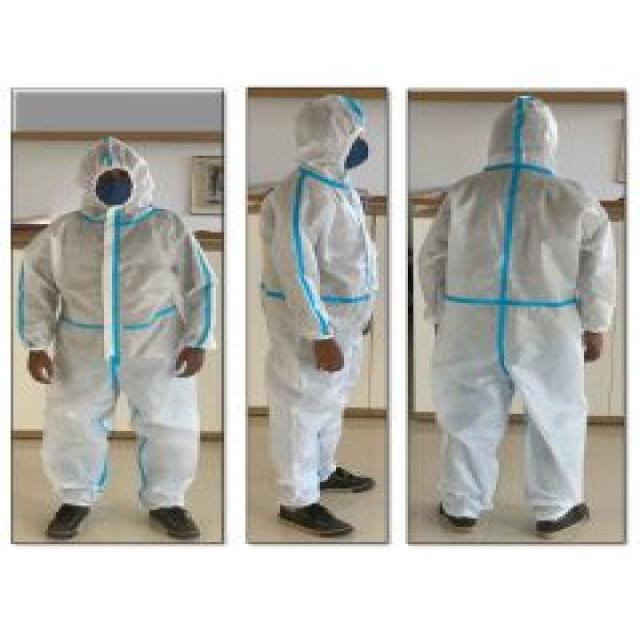Coverall: (427, 94, 605, 540), (32, 107, 208, 552), (234, 79, 394, 540)
Mask: (69, 164, 144, 218), (320, 130, 384, 177)
